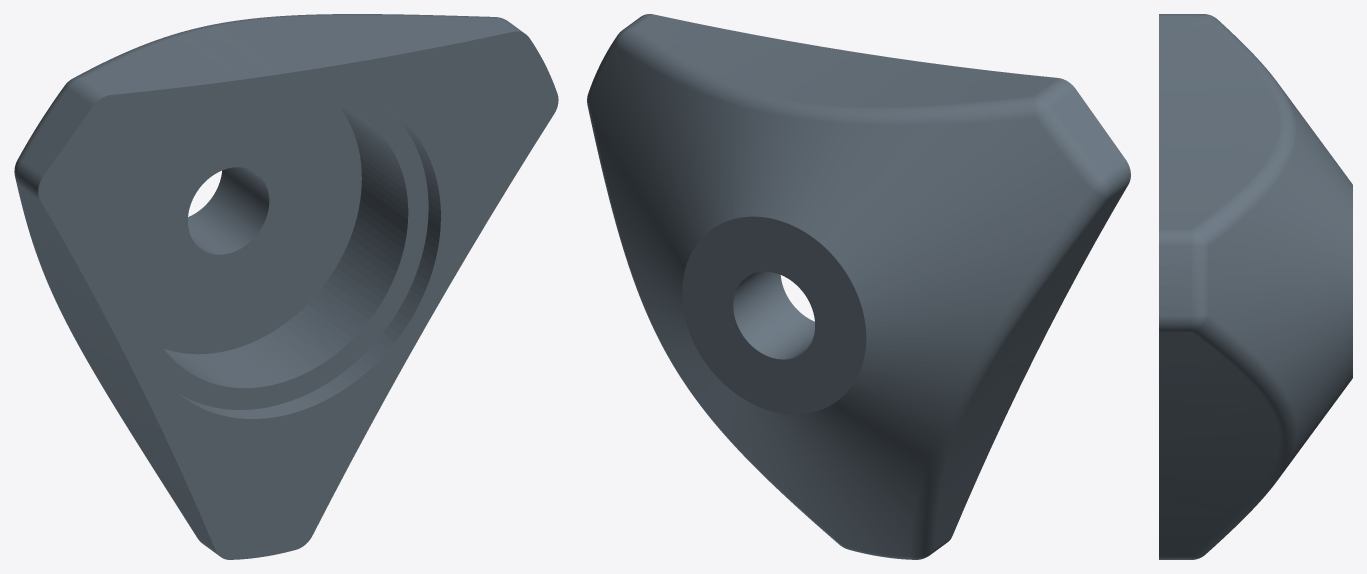
The model's file is spool-holder.glb.
3 views of the same model, side by side, from view 1: azimuth 30°, elevation 25°; view 2: azimuth 150°, elevation 25°; view 3: azimuth 270°, elevation 25° (orthographic). The views are drawn at different scales.
Parts seen in each view (by area): view 1: Spool holder; view 2: Spool holder; view 3: Spool holder.
Boxes of the visible parts, x1,y1,x2,y2 form: Spool holder: (14, 14, 558, 559); Spool holder: (587, 14, 1130, 559); Spool holder: (1159, 14, 1352, 559).
Bounding box in the file's own units: 2.56 × 2.35 × 0.9.
